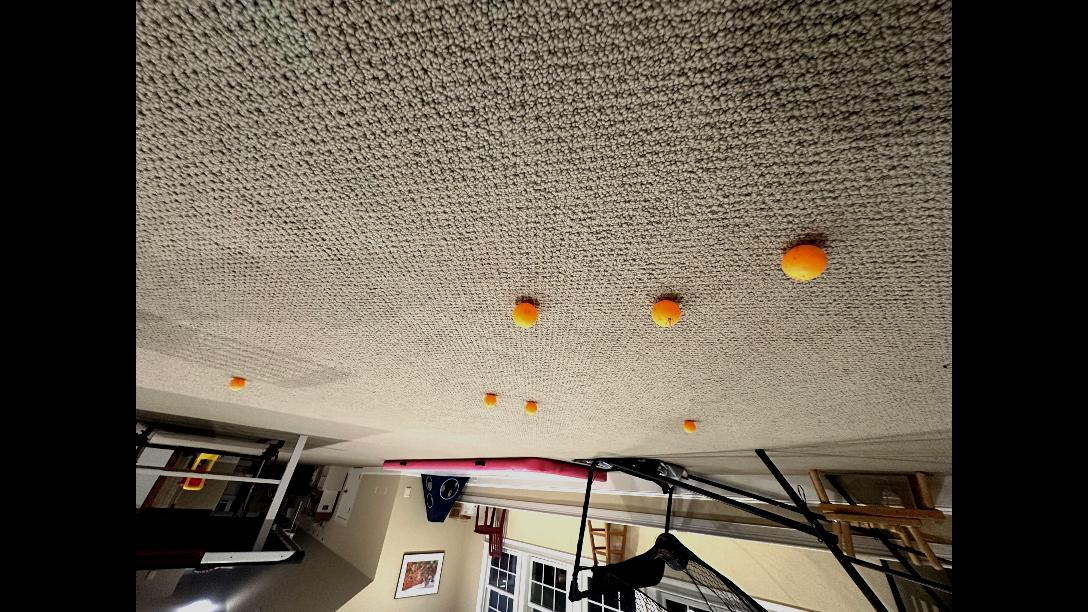Table-Tennis-Ball: (784, 245, 826, 281), (652, 300, 680, 328), (514, 305, 536, 328), (229, 380, 245, 390), (484, 396, 496, 408), (684, 422, 694, 433), (526, 404, 536, 414)
